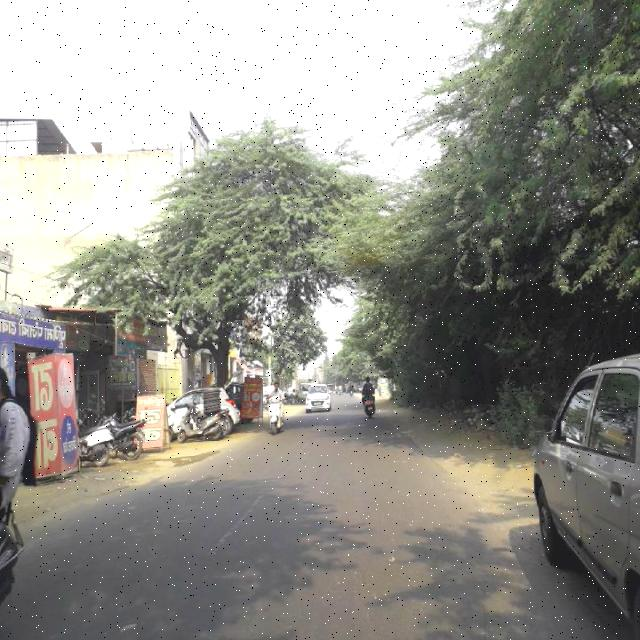D44: (207, 483, 269, 557)
